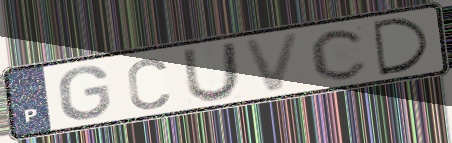C: (308, 26, 371, 83), (124, 56, 173, 113)
D: (369, 15, 434, 78)
G: (57, 64, 114, 121)
U: (180, 39, 242, 104)
V: (239, 29, 305, 96)
